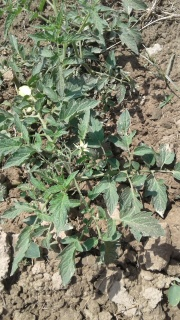tomato flower: (17, 80, 34, 107), (74, 137, 93, 159)
tomato plant: (6, 2, 132, 262)
